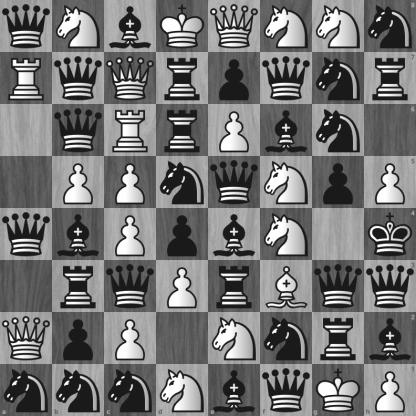B: (261, 261, 312, 312)
K: (312, 364, 364, 416), (157, 1, 208, 52)
N: (156, 364, 209, 416), (53, 1, 104, 52), (209, 313, 260, 364), (261, 1, 312, 52), (261, 157, 312, 208), (261, 209, 312, 260), (313, 1, 364, 52)
P: (364, 156, 416, 209), (364, 364, 416, 416), (53, 157, 104, 208), (105, 157, 156, 208), (105, 209, 156, 260), (105, 313, 156, 364), (157, 261, 208, 312), (209, 105, 260, 156)
Q: (1, 313, 52, 364), (105, 53, 156, 104), (209, 1, 260, 52)
R: (1, 53, 52, 104), (105, 105, 156, 156)
b: (364, 312, 416, 364), (209, 364, 260, 416), (53, 209, 104, 260), (105, 1, 156, 52), (209, 209, 260, 260), (261, 105, 312, 156)
board: (0, 0, 415, 415)
k: (364, 209, 416, 260)
n: (0, 364, 52, 416), (52, 364, 104, 416), (104, 364, 156, 416), (364, 0, 416, 52), (157, 157, 208, 208), (261, 313, 312, 364), (313, 53, 364, 104), (313, 105, 364, 156)
p: (53, 313, 104, 364), (157, 209, 208, 260), (209, 53, 260, 104), (313, 157, 364, 208)
q: (260, 364, 312, 416), (364, 260, 416, 312), (1, 1, 52, 52), (1, 209, 52, 260), (53, 53, 104, 104), (53, 105, 104, 156), (105, 261, 156, 312), (209, 157, 260, 208), (261, 53, 312, 104), (313, 261, 364, 312)
r: (364, 52, 416, 104), (53, 261, 104, 312), (157, 53, 208, 104), (157, 105, 208, 156), (209, 261, 260, 312), (313, 313, 364, 364)
